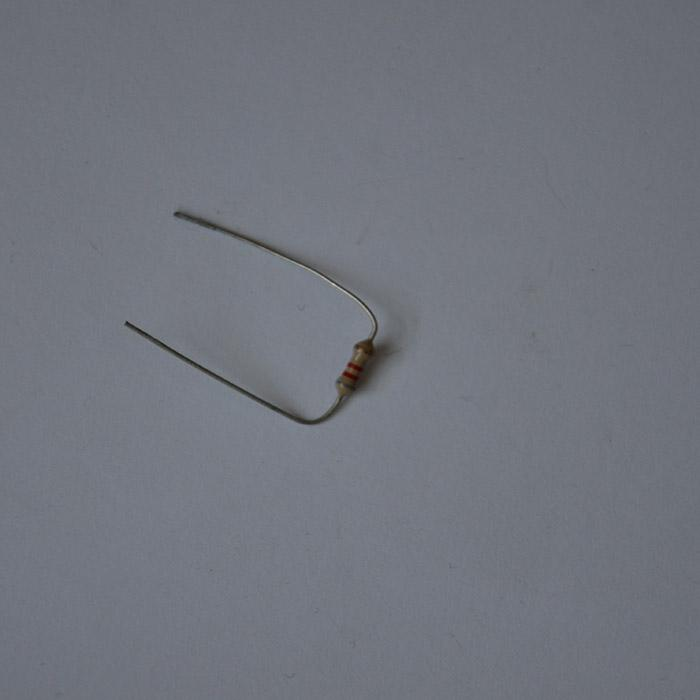resistor: (336, 340, 375, 398)
